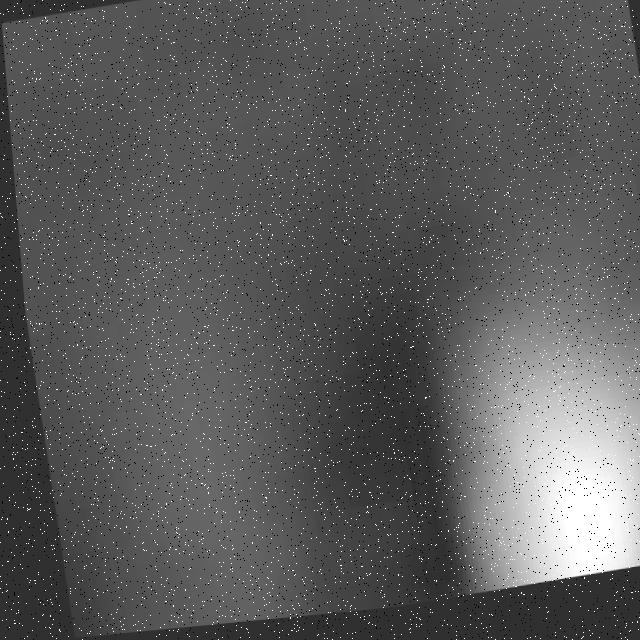person: (422, 244, 640, 604)
